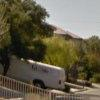Tree: (3, 2, 55, 59)
